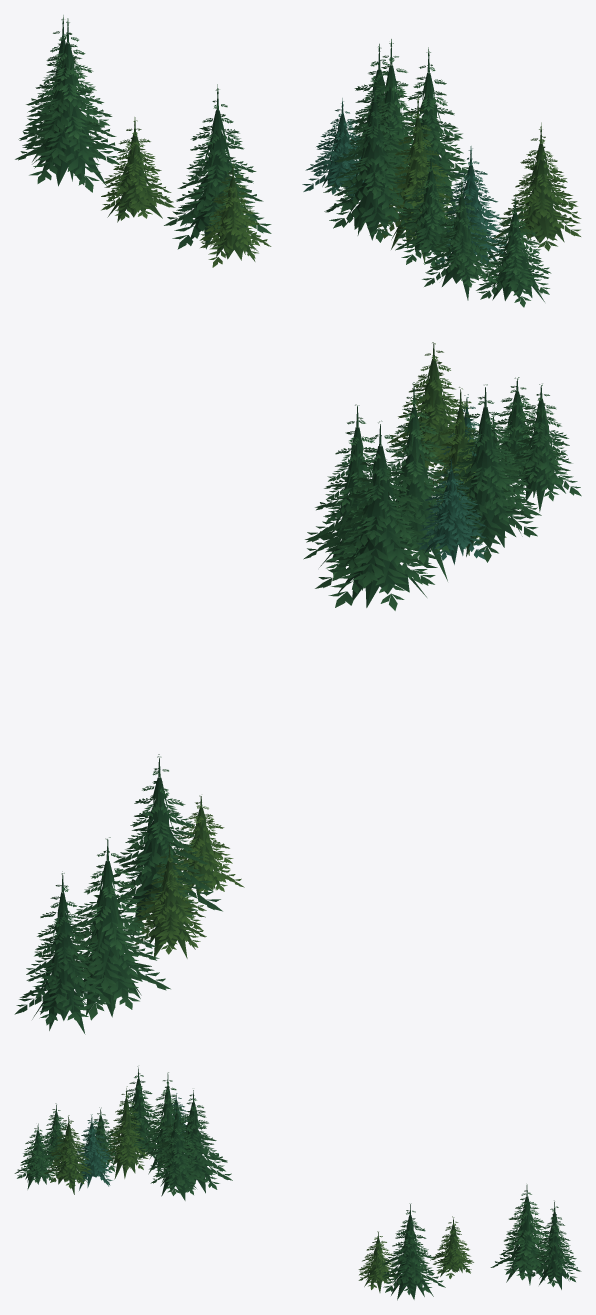
3 renders of one model, top to bottom at view 1: azimuth 30°, elevation 25°; view 2: azimuth 150°, elevation 25°; view 3: azimuth 270°, elevation 25°, orthographic. The views are drawn at different scales.
Parts seen in each view (by area): view 1: pn_24; view 2: pn_24; view 3: pn_24.
Part boxes in pixels (<box>): pn_24: <box>15,15,581,307</box>; pn_24: <box>14,342,581,1034</box>; pn_24: <box>14,1066,581,1300</box>.
Size of the model in its own units: 17.98 by 32.8 by 77.6.
1 material, 1 textured.
